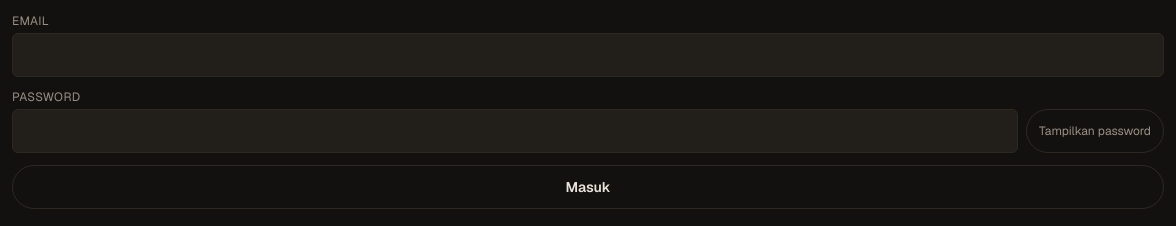
Test: CredentialsForm › toggle tampilkan/sembunyikan password tidak mengirim form
The image size is (1176, 226).
Step 1. Click the button "Tampilkan password" → (1095, 131), box [1026,109,1164,153]
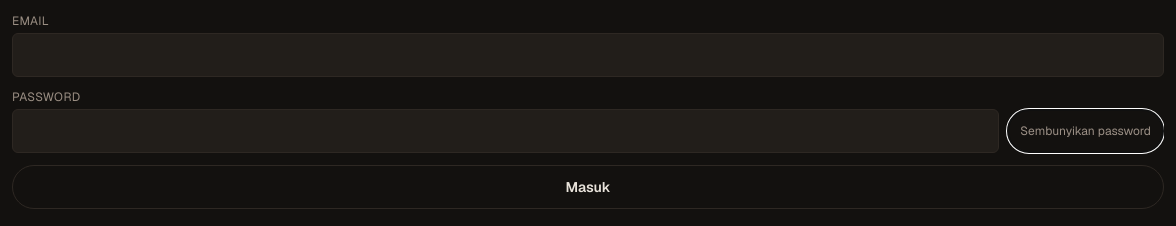
Result: the button "Sembunyikan password" is shown
Step 2. Click the button "Sembunyikan password" → (1086, 131), box [1007,109,1164,153]
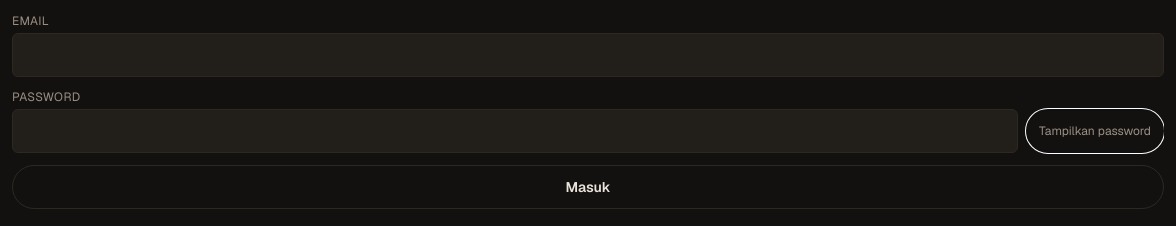
Result: the button "Tampilkan password" is shown at [1026,109,1164,153]
